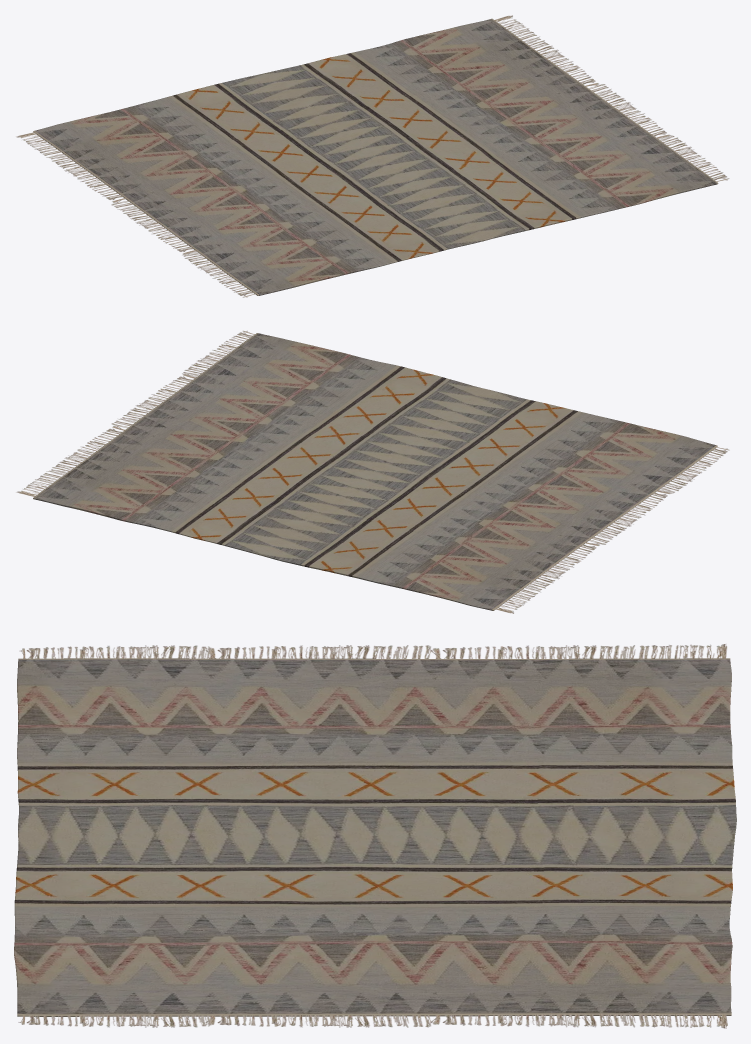
File: abo-B07B4YY9GB.glb
3 views of the same model, one above another, from view 1: azimuth 30°, elevation 25°; view 2: azimuth 150°, elevation 25°; view 3: azimuth 270°, elevation 25° (orthographic). The views are drawn at different scales.
Size of the model in its own units: 3 by 0.0121 by 2.37.
1 material, 1 textured.
